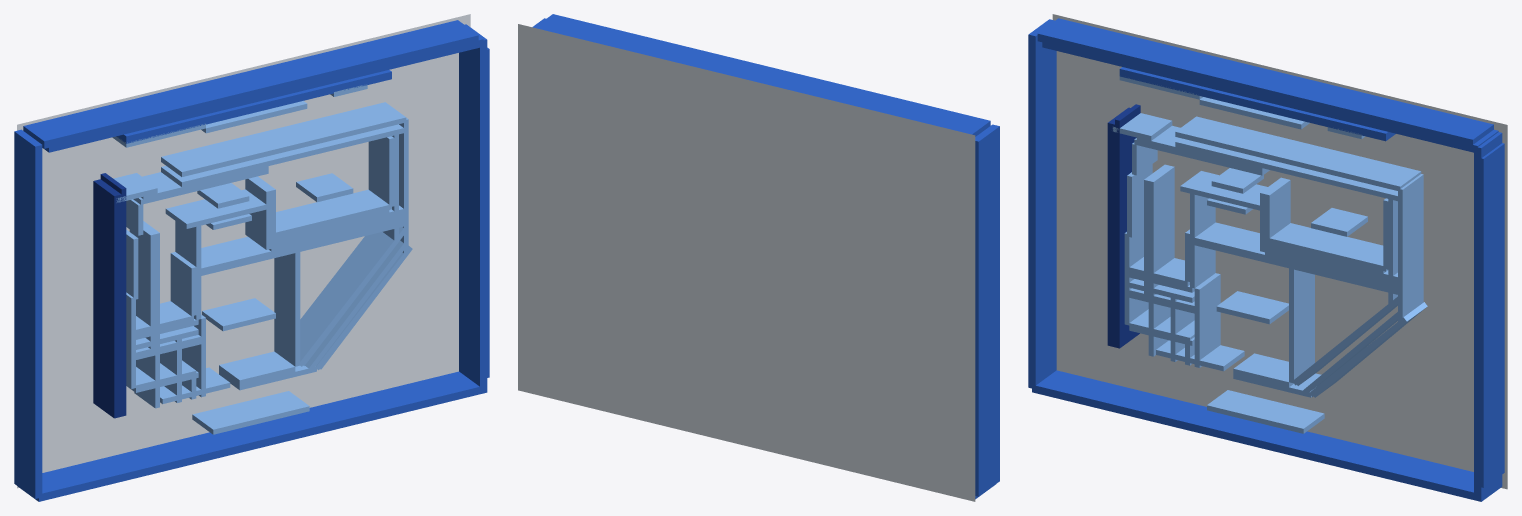
File: a0d1aef9-3fcb-4085-bd44-f9246561610e.obj
The picture shows the model from 3 angles, left to right: view 1: azimuth 30°, elevation 25°; view 2: azimuth 150°, elevation 25°; view 3: azimuth 330°, elevation 25°; orthographic projection.
Size of the model in its own units: 37.85 by 28.8 by 3.05.
